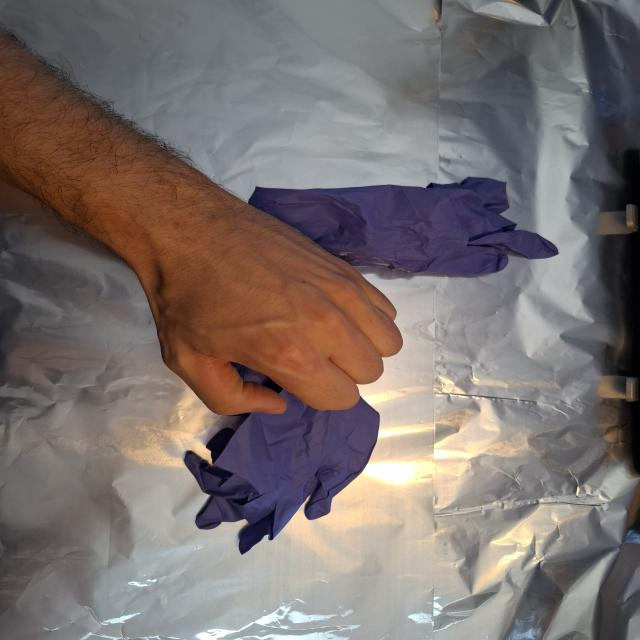glove_off: (138, 203, 407, 417)
